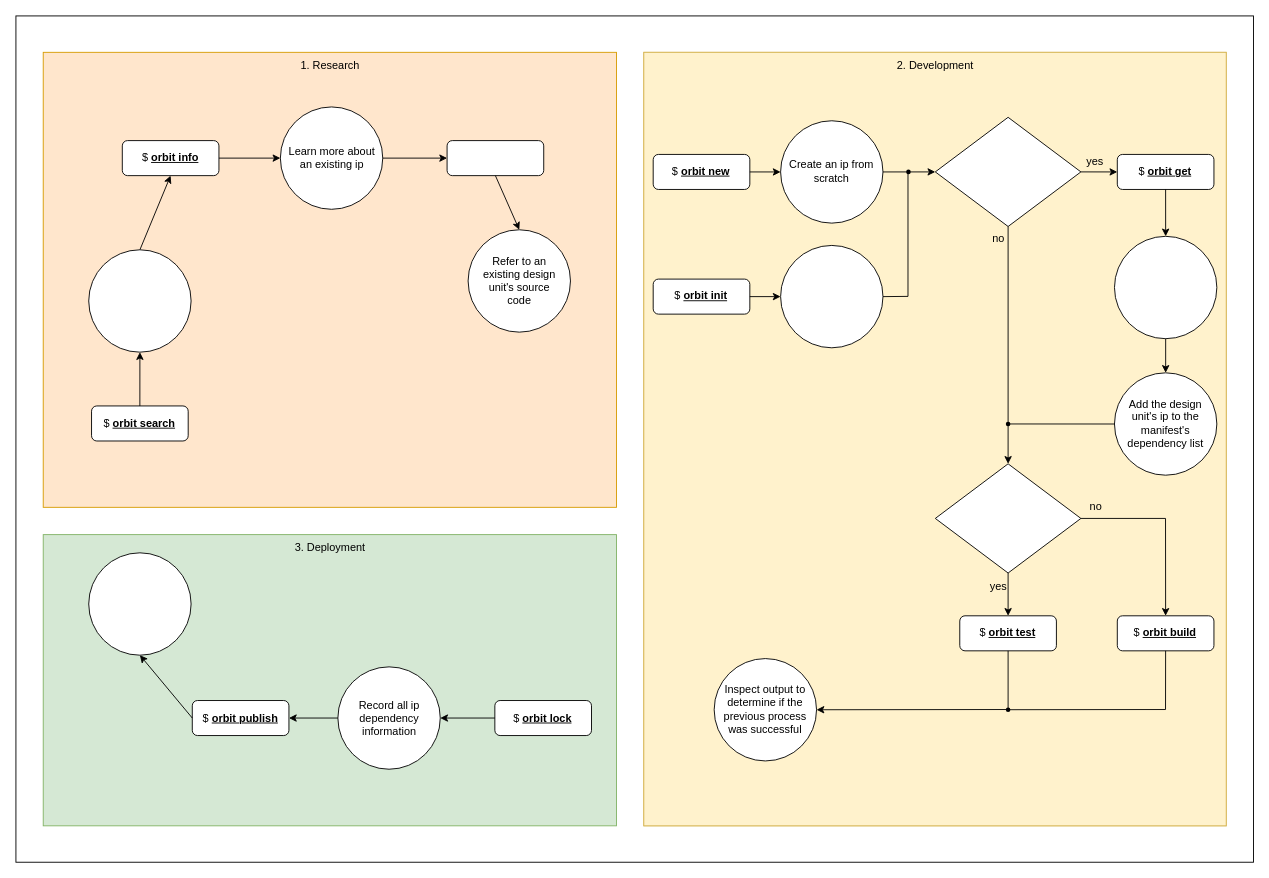
Image size: 1269x878. Some labels were removed from this diagram. The centre of each missing label's shape, as x and y in pixels:
$ orbit read: point (495, 158)
Create an ip from an existing project: point (831, 296)
Display HDL code snippets to instantiate an existing design unit: point (1165, 287)
Does the process for the current design unit use a testbench?: point (1007, 518)
Release the state of the ip as a new version: point (139, 603)
Survey what ip exist in the catalog: point (139, 300)
Using a design unit from an existing ip?: point (1007, 171)
